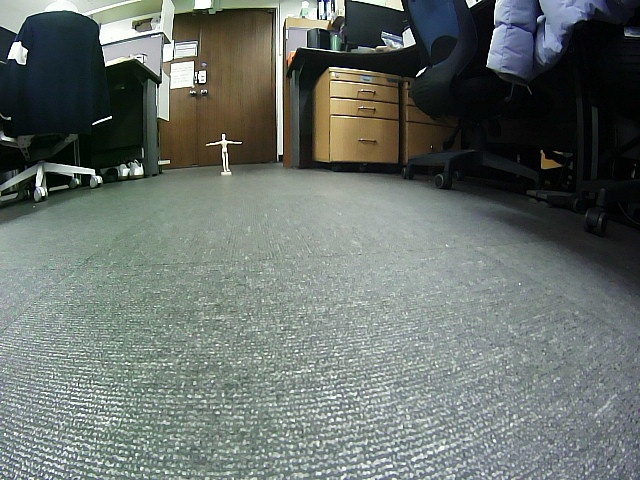person: (206, 133, 242, 172)
